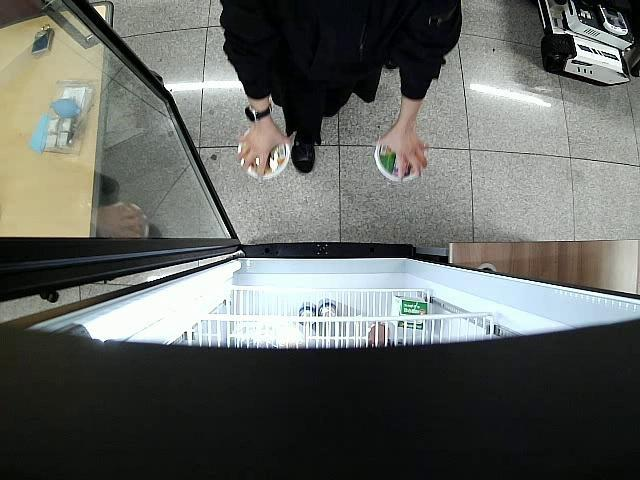09_yukGaeJang: (239, 128, 290, 181), (373, 139, 414, 182)
